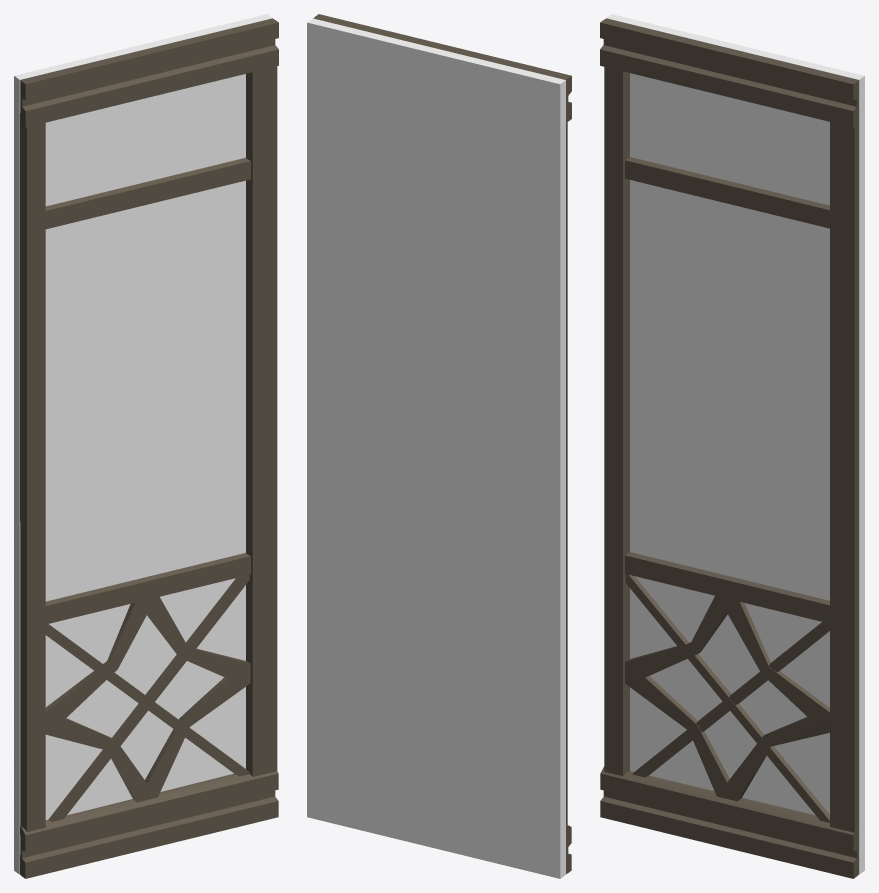
File: WALL_04_1.glb
3 views of the same model, side by side, from view 1: azimuth 30°, elevation 25°; view 2: azimuth 150°, elevation 25°; view 3: azimuth 330°, elevation 25° (orthographic).
Parts seen in each view (by area): view 1: WALL_04_1; view 2: WALL_04_1; view 3: WALL_04_1.
Part boxes in pixels (left/top/right/bottom): WALL_04_1: left=14, top=14, right=278, bottom=878; WALL_04_1: left=307, top=14, right=571, bottom=878; WALL_04_1: left=600, top=14, right=864, bottom=878.
Bounding box in the file's own units: 1 × 3 × 0.08.
1 material, 1 textured.
